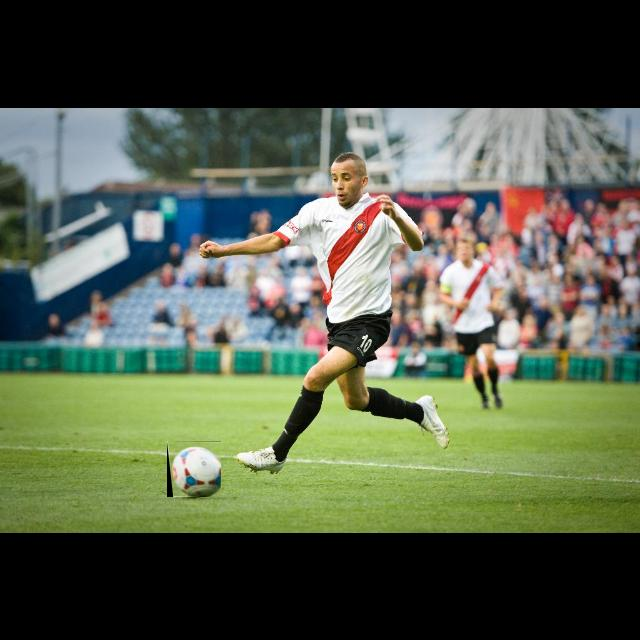Football: (167, 441, 221, 497)
